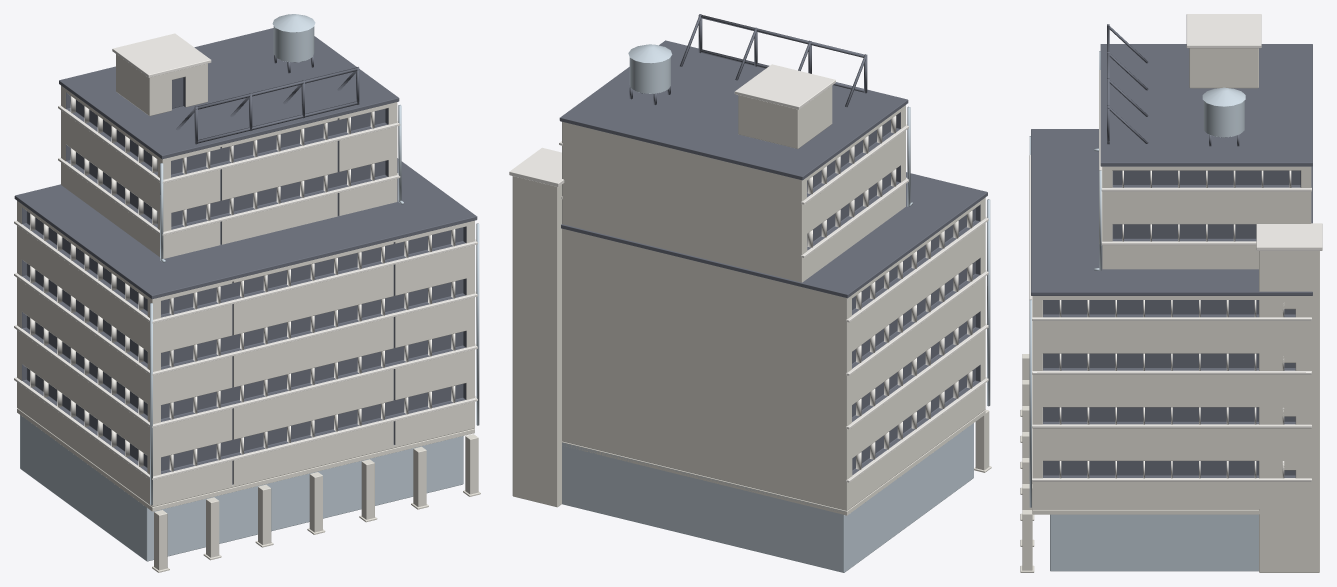
File: yongle.glb
3 views of the same model, side by side, from view 1: azimuth 30°, elevation 25°; view 2: azimuth 150°, elevation 25°; view 3: azimuth 270°, elevation 25° (orthographic). The views are drawn at different scales.
Parts seen in each view (by area): view 1: main; view 2: main; view 3: main.
Boxes of the visible parts, bbox=[...] form: main: bbox=[14, 14, 480, 572]; main: bbox=[509, 14, 991, 572]; main: bbox=[1020, 14, 1322, 572].
Bounding box in the file's own units: 22.38 × 27.85 × 17.35.
